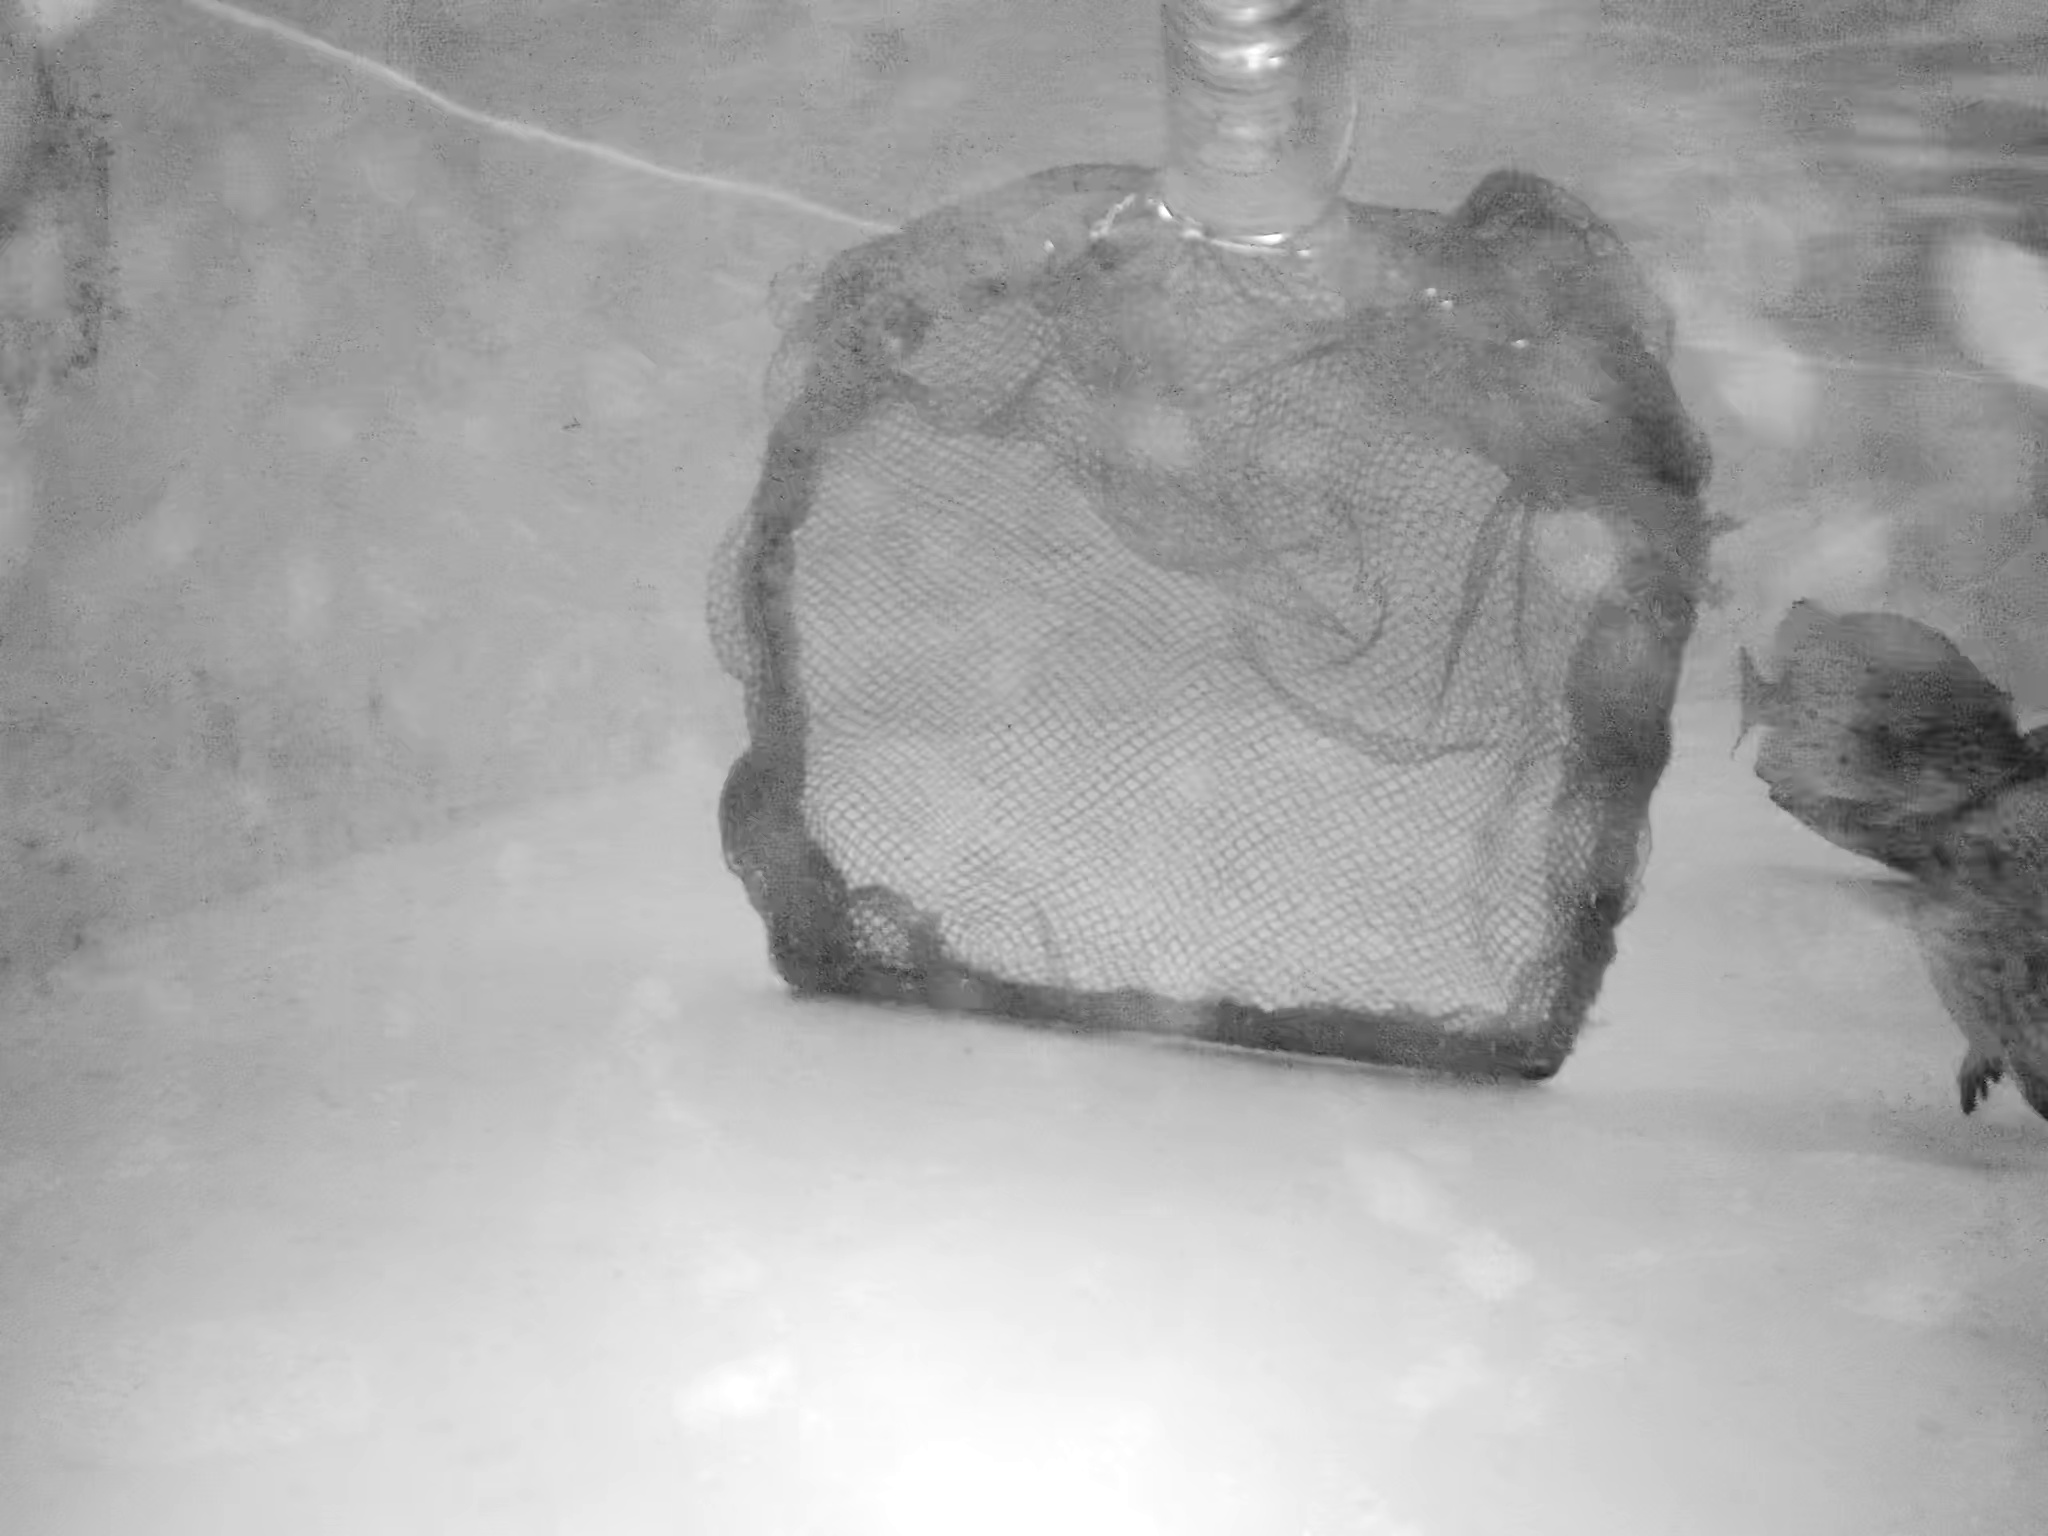fish: (1729, 591, 2017, 815), (1921, 781, 2048, 1129), (1764, 758, 2048, 863)
